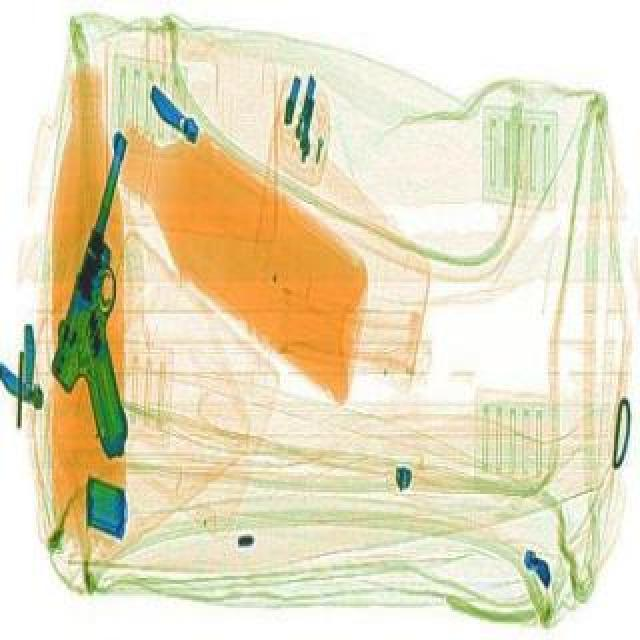gun: (36, 124, 176, 452)
